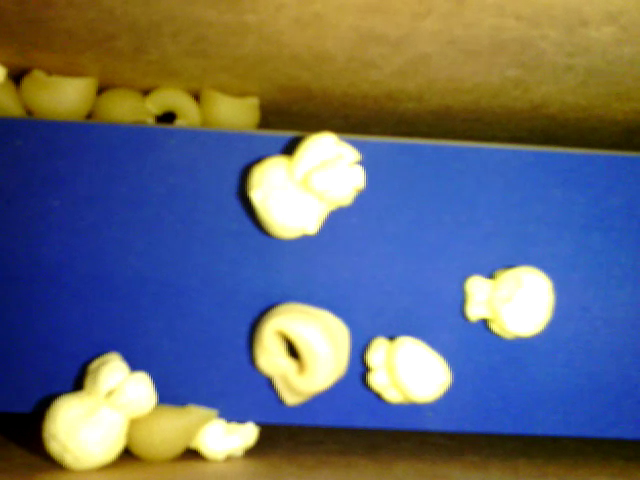elbow: (146, 85, 203, 130)
shell: (127, 402, 217, 461), (20, 70, 102, 122), (198, 85, 262, 127), (91, 85, 155, 123)
tortellini: (252, 299, 352, 407)
